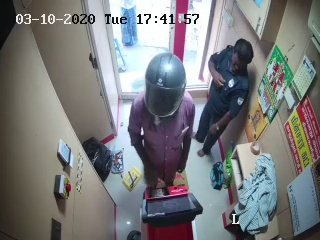helmet: (139, 53, 189, 123)
